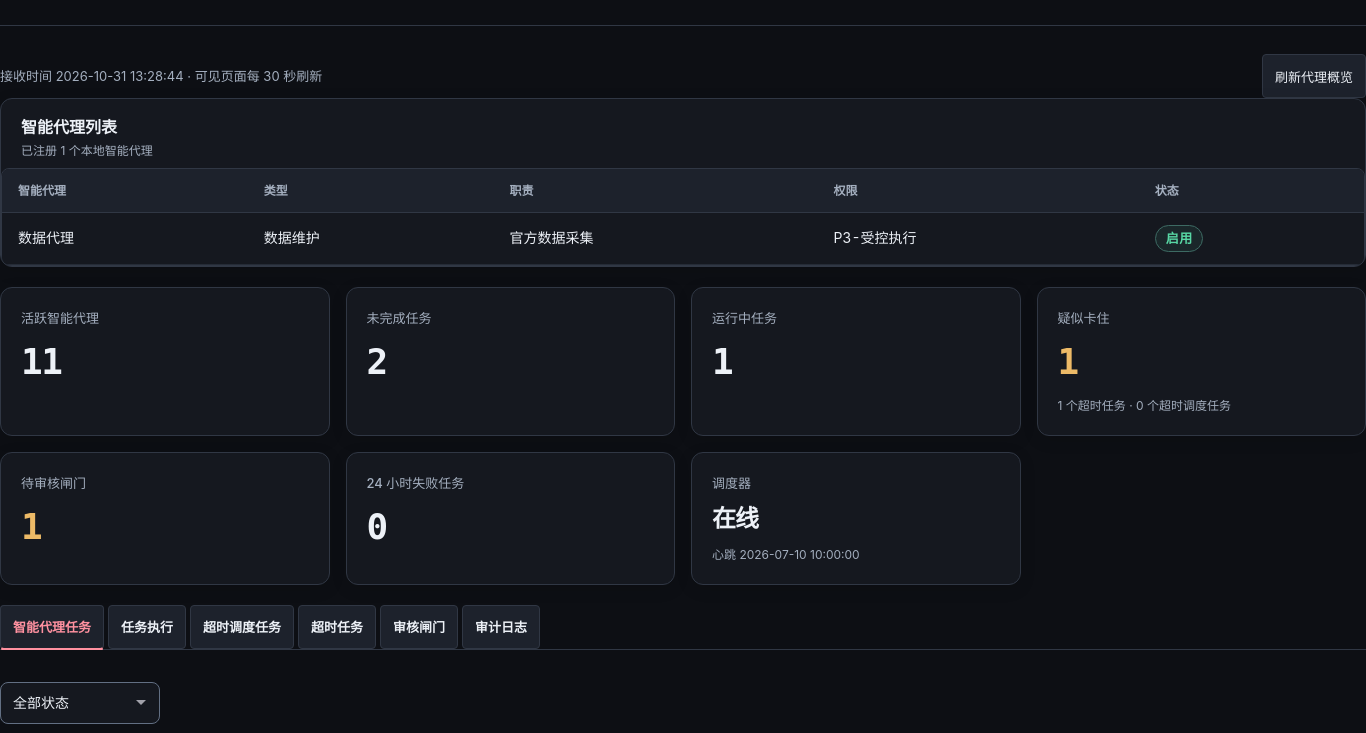
Test: AgentPanel › renders the operations summary and review gate tab
Expected: the text "活跃智能代理" is shown, [21,310,99,326]
Expected: the text "在线" is shown, [712,505,758,533]
Click the button "审核闸门".
click(419, 627)  # box [380,605,458,649]
(page scrolled)
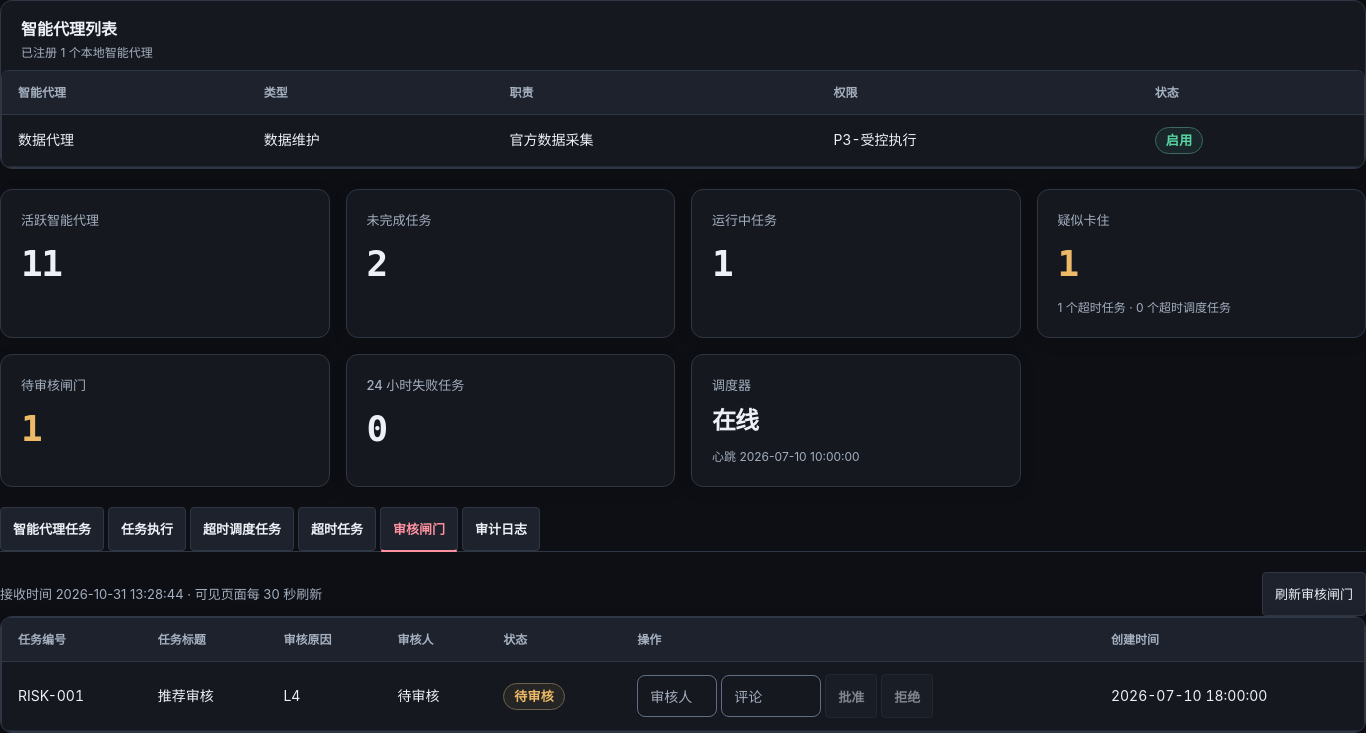
Now the text "RISK-001" is shown, box [2,662,142,731]
Now the text "L4" is shown, box [267,662,382,731]
